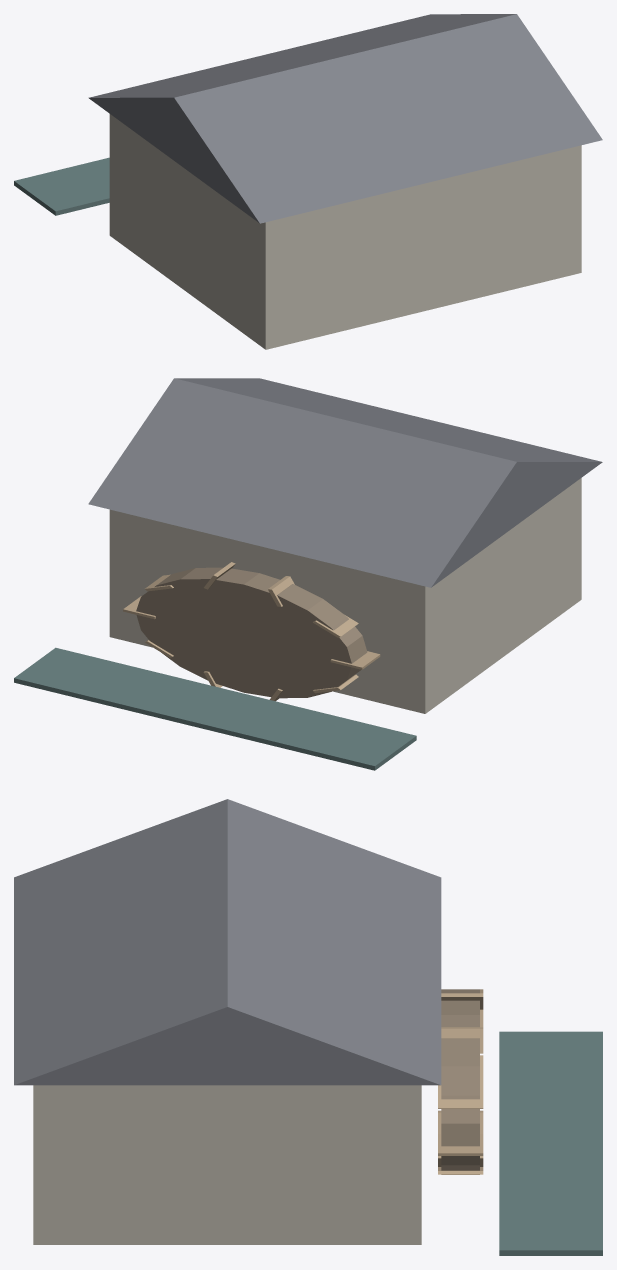
The model's file is WaterMill.glb.
The picture shows the model from 3 angles, top to bottom: view 1: azimuth 30°, elevation 25°; view 2: azimuth 150°, elevation 25°; view 3: azimuth 270°, elevation 25°; orthographic projection. The views are drawn at different scales.
Visible parts, largest first — view 1: Mill roof.001, Mill house, Race; view 2: Mill roof.001, Mill house, Wheel, Race; view 3: Mill roof.001, Mill house, Race, Wheel.
Boxes of the visible parts, x1,y1,x2,y2 form: Mill roof.001: [88, 14, 602, 223]; Mill house: [109, 114, 581, 349]; Race: [14, 157, 109, 215]; Mill roof.001: [88, 378, 602, 587]; Mill house: [109, 478, 581, 713]; Wheel: [136, 567, 367, 698]; Race: [14, 647, 416, 770]; Mill roof.001: [14, 799, 441, 1085]; Mill house: [33, 1085, 421, 1244]; Race: [499, 1031, 602, 1255]; Wheel: [441, 989, 479, 1174].
Size of the model in its own units: 8 by 4.26 by 9.1.
